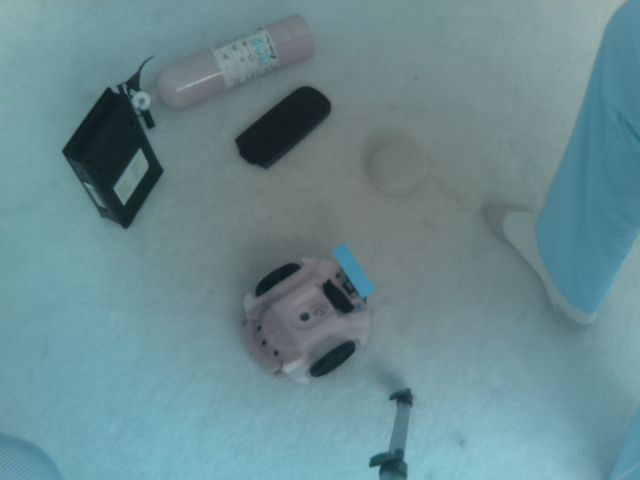board: (324, 234, 378, 309)
chassis: (232, 245, 397, 387)
